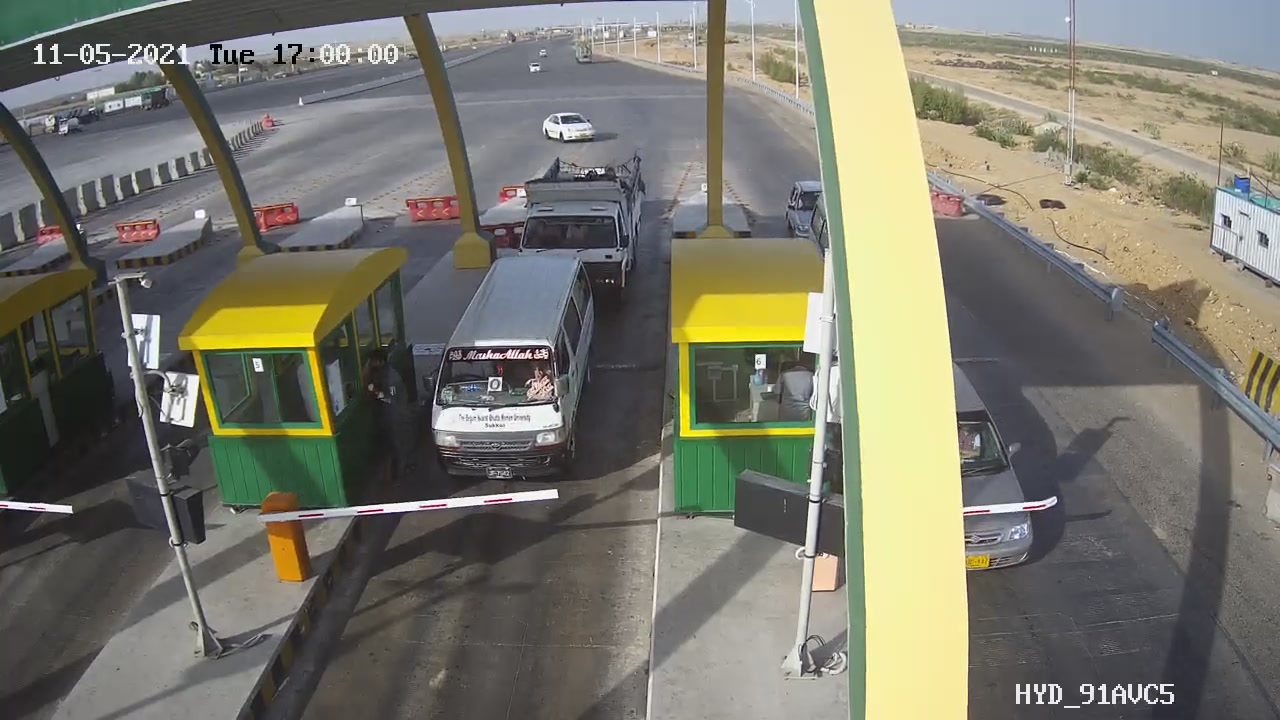F2: (412, 246, 616, 498)
